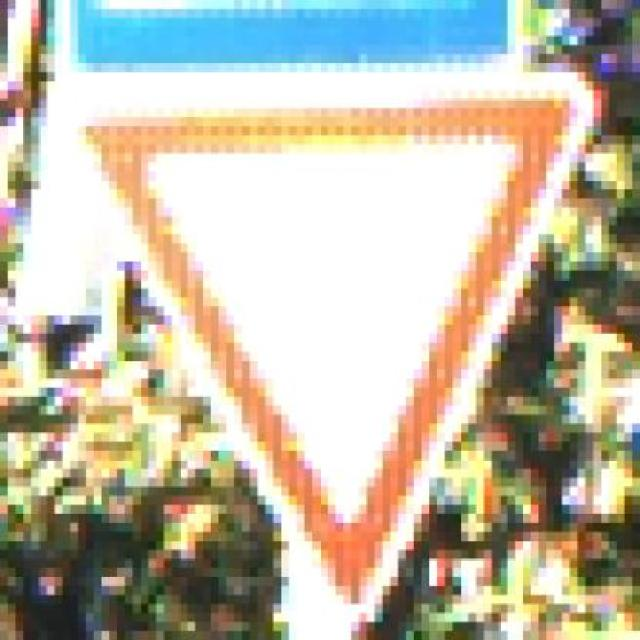Give Way: (46, 75, 632, 616)
